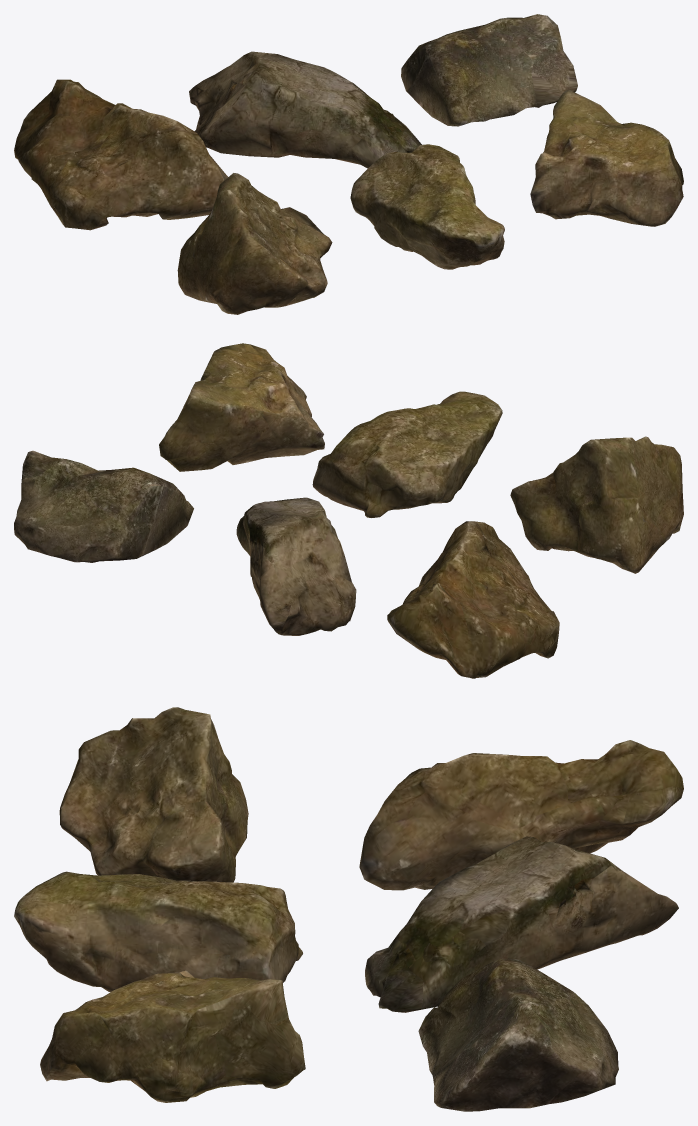
Rendered from rock_moss_set_01.glb.
3 renders of one model, top to bottom at view 1: azimuth 30°, elevation 25°; view 2: azimuth 150°, elevation 25°; view 3: azimuth 270°, elevation 25°, orthographic. The views are drawn at different scales.
Parts seen in each view (by area): view 1: rock_moss_set_01_rock01, rock_moss_set_01_rock02, rock_moss_set_01_rock06, rock_moss_set_01_rock04, rock_moss_set_01_rock03, rock_moss_set_01_rock05; view 2: rock_moss_set_01_rock04, rock_moss_set_01_rock01, rock_moss_set_01_rock05, rock_moss_set_01_rock03, rock_moss_set_01_rock06, rock_moss_set_01_rock02; view 3: rock_moss_set_01_rock01, rock_moss_set_01_rock02, rock_moss_set_01_rock05, rock_moss_set_01_rock04, rock_moss_set_01_rock06, rock_moss_set_01_rock03.
Boxes of the visible parts, x1,y1,x2,y2 form: rock_moss_set_01_rock01: (14,79,227,230); rock_moss_set_01_rock02: (189,51,421,168); rock_moss_set_01_rock06: (530,89,683,226); rock_moss_set_01_rock04: (177,173,332,314); rock_moss_set_01_rock03: (401,14,577,126); rock_moss_set_01_rock05: (350,144,504,269); rock_moss_set_01_rock04: (510,436,683,573); rock_moss_set_01_rock01: (387,521,559,678); rock_moss_set_01_rock05: (312,391,502,517); rock_moss_set_01_rock03: (14,450,193,562); rock_moss_set_01_rock06: (159,343,324,471); rock_moss_set_01_rock02: (236,497,356,635); rock_moss_set_01_rock01: (359,740,683,890); rock_moss_set_01_rock02: (365,836,678,1012); rock_moss_set_01_rock05: (14,871,302,991); rock_moss_set_01_rock04: (59,707,248,882); rock_moss_set_01_rock06: (40,970,305,1102); rock_moss_set_01_rock03: (418,958,618,1111).
Bounding box in the file's own units: 8 × 1.76 × 6.94.
1 material, 1 textured.
